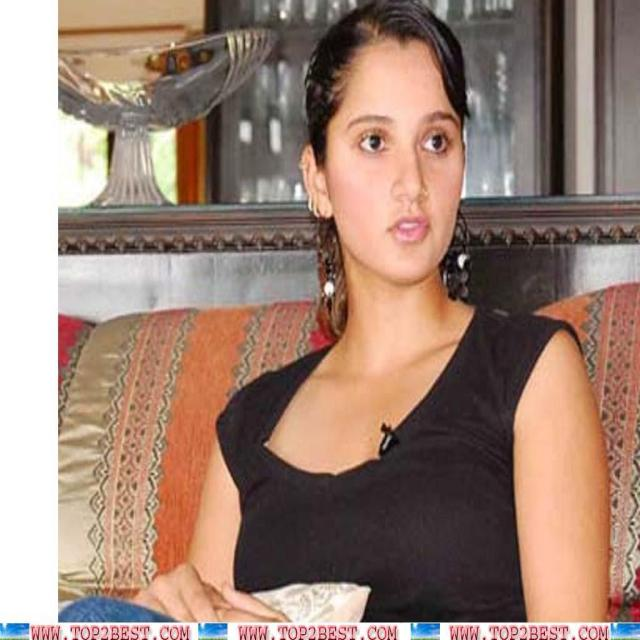Face: (337, 22, 468, 278)
